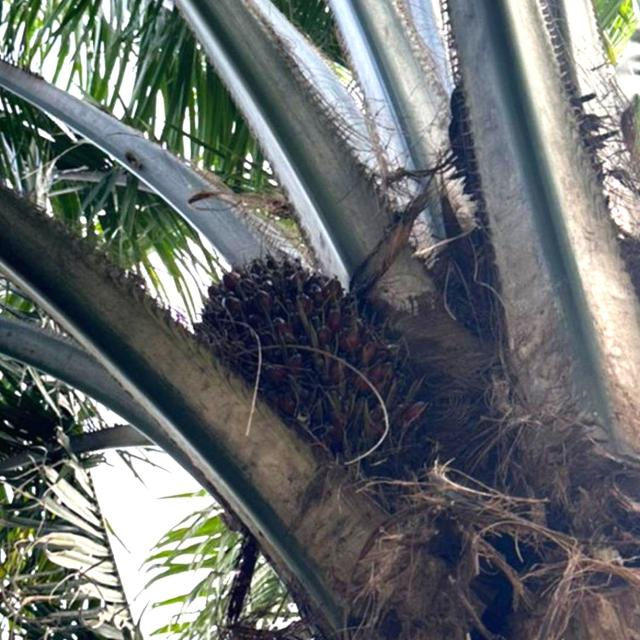ripe: (196, 246, 428, 481)
